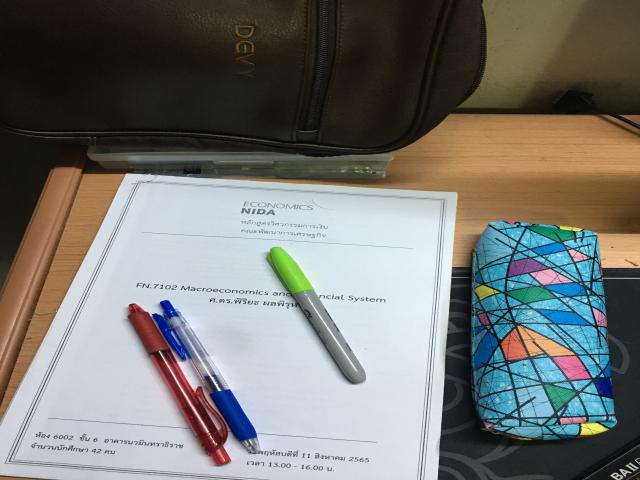Pen: (128, 304, 230, 465), (160, 301, 260, 453), (267, 247, 367, 383)
paper: (2, 173, 457, 480)
